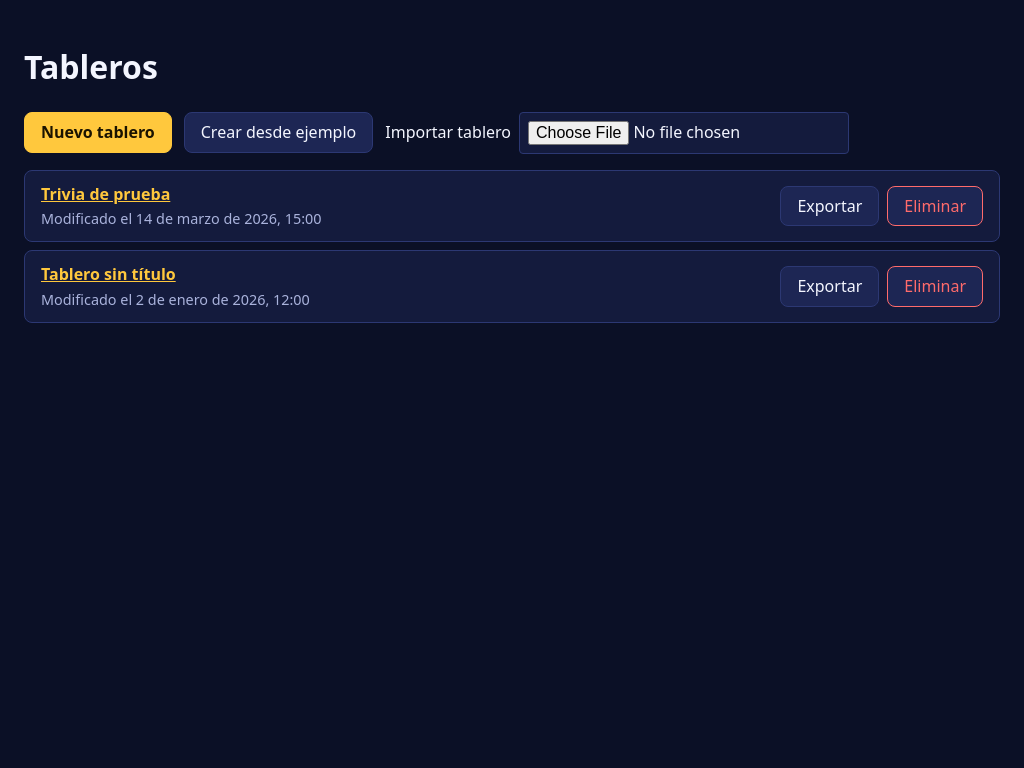
Test: BoardListScreen › cancelar la eliminación deja el tablero sin cambios
Click the button with aria-label "Eliminar Trivia de prueba". click: [935, 206]
box: [887, 186, 983, 226]
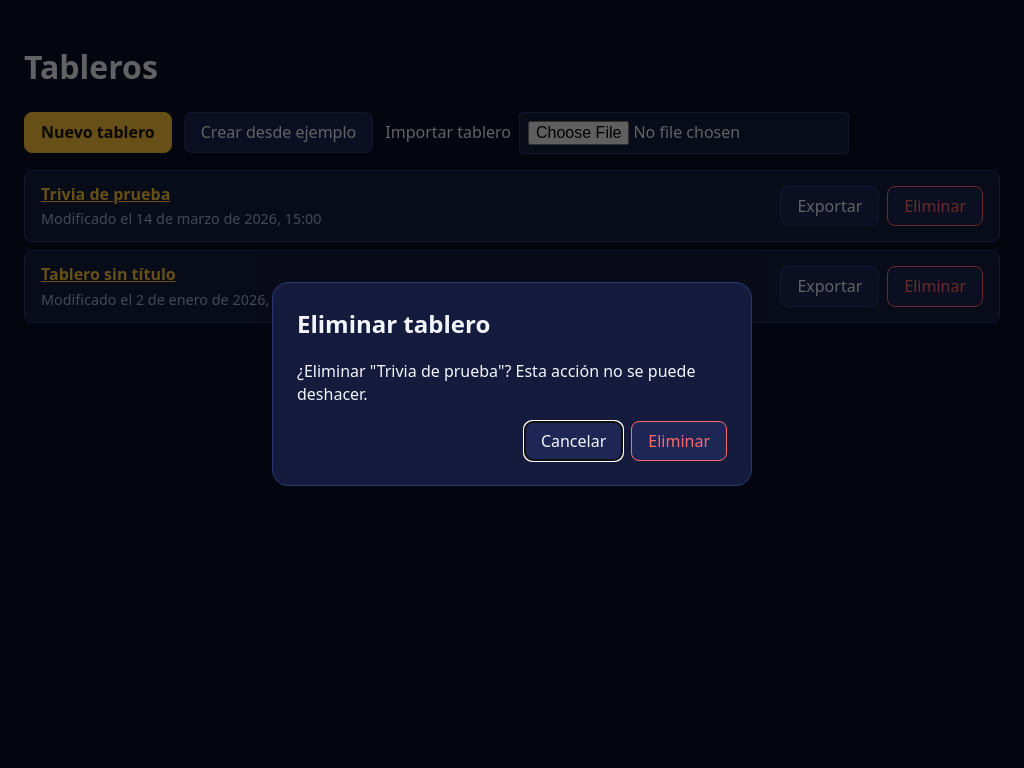
Now the dialog "Eliminar tablero" shows "Trivia de prueba", box [297, 360, 695, 405]
Click the button "Cancelar". click: [574, 441]
box: [524, 421, 623, 461]
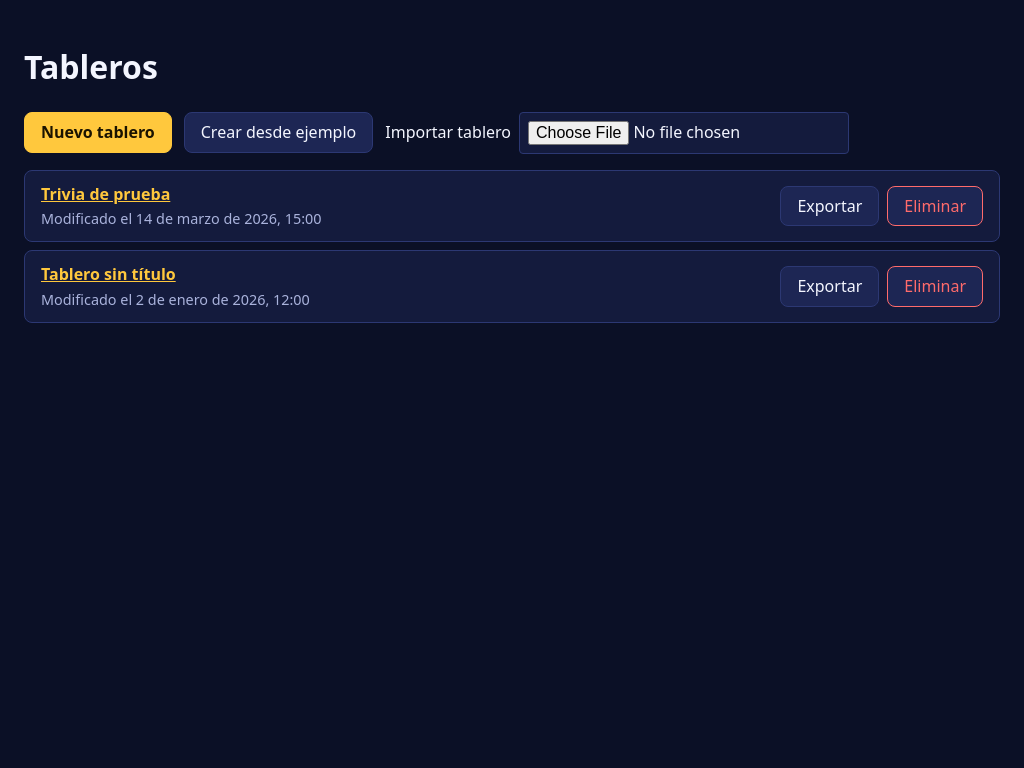
Expected: the link "Trivia de prueba" is shown, [41, 183, 170, 205]
Now the dialog is gone
